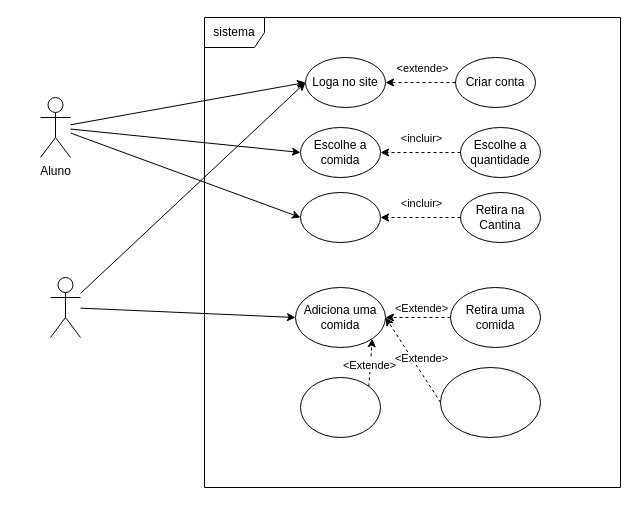
Some shapes in this 638 by 505 pixel diagram are drawn without their labels. Here are the shapes that lost their labels. From the top down, the centre of each, then its label:
(x=340, y=217): Compra a comida
(x=65, y=307): Diretor de Cantina
(x=340, y=407): Atualiza uma comida
(x=490, y=402): Muda o preço de uma comida
